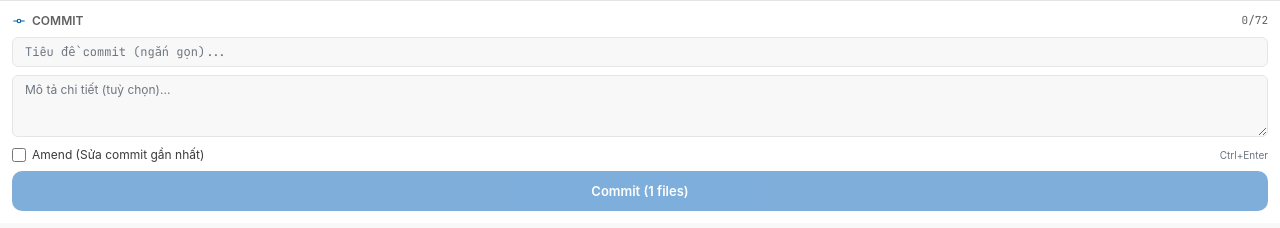
Scenario: Advanced Git interface with a saved legacy simple mode › uses advanced commit and amend labels
Step 1. Click the checkbox with test id "amend-checkbox" → (19, 155), box x1=12 y1=148 x2=26 y2=162
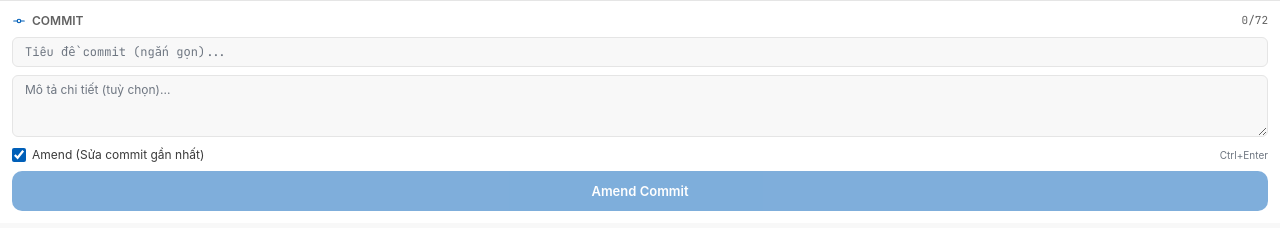
Result: the button with test id "commit-button" reads "Amend Commit" at x1=12 y1=171 x2=1268 y2=211
